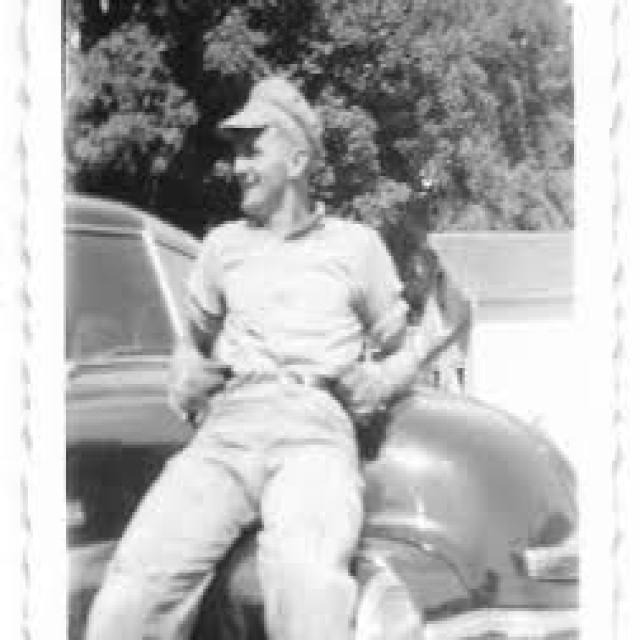cap: (216, 80, 322, 221)
